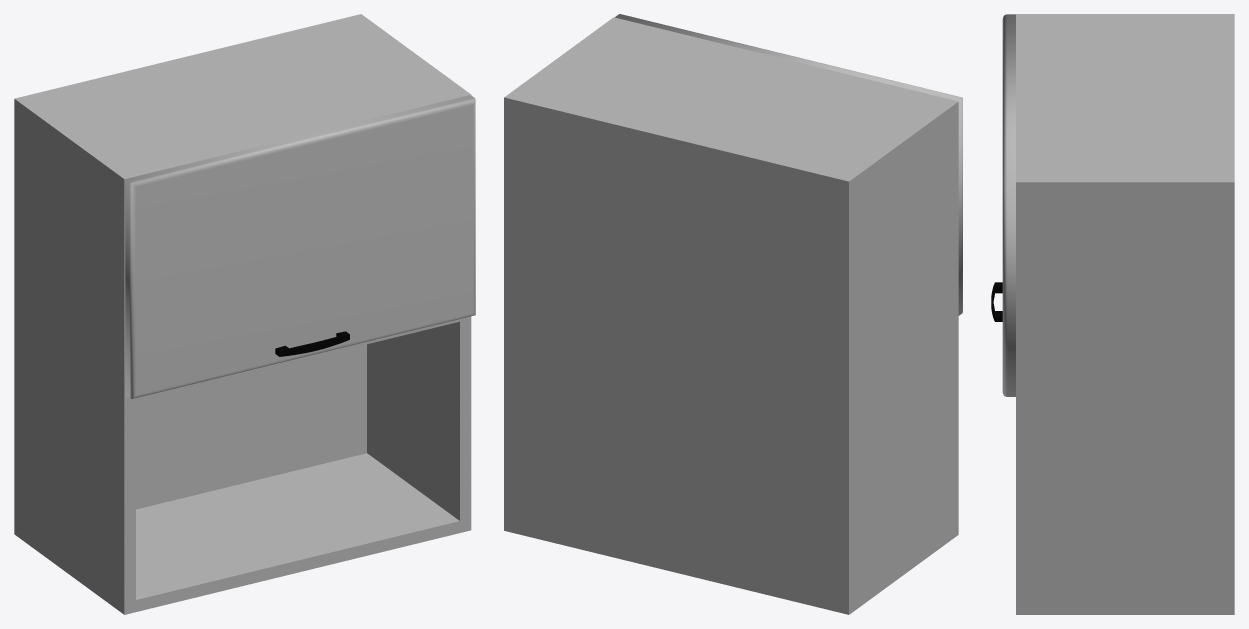
3 renders of one model, left to right at view 1: azimuth 30°, elevation 25°; view 2: azimuth 150°, elevation 25°; view 3: azimuth 270°, elevation 25°, orthographic.
Visible parts, largest first — view 1: Box038, Box031, Obj3d66-503491-2-357; view 2: Box038, Box031; view 3: Box038, Box031.
Part boxes in pixels (x1,y1,x2,y2): Box038: (14,14,471,614); Box031: (125,95,475,399); Obj3d66-503491-2-357: (275,331,349,356); Box038: (504,17,958,614); Box031: (615,14,962,315); Box038: (1016,14,1234,614); Box031: (1002,14,1015,396).
Bounding box in the file's own units: 0.6 × 0.72 × 0.3671.
Materials: 2 (1 with a texture image).
